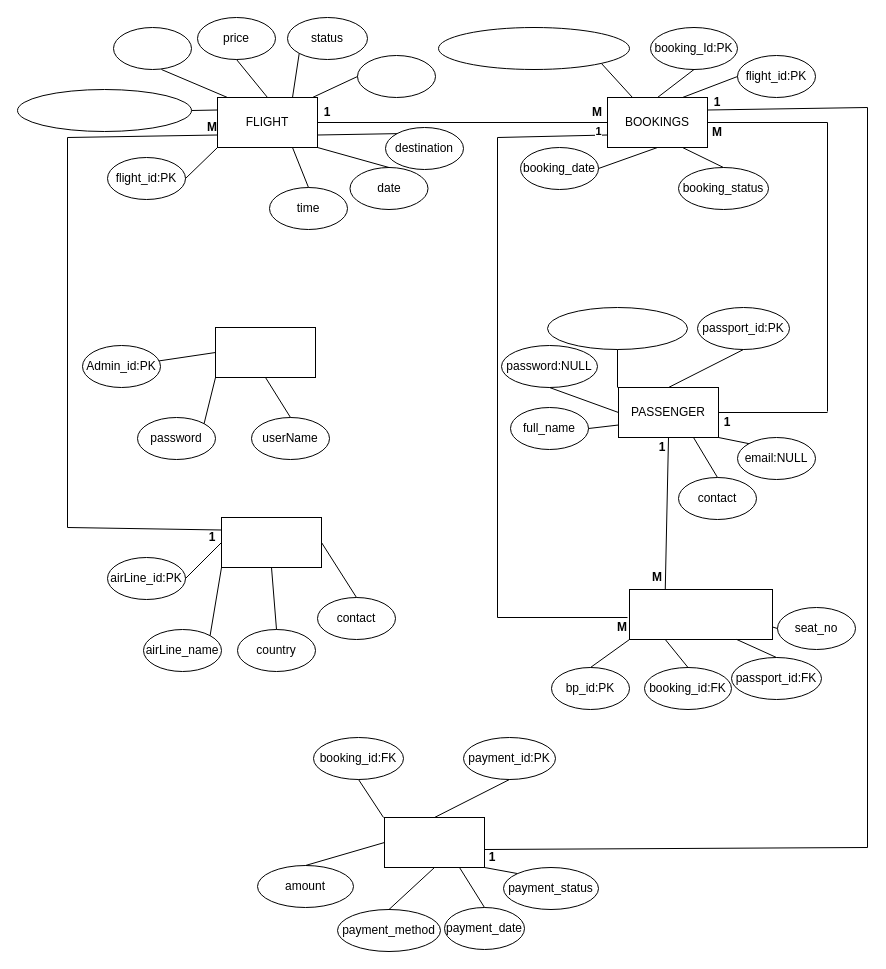
This 886x969 diagram has some shape labels left out. Each missing label, with the centre of its shape:
ADMIN: [265,352]
AIRLINE: [271,542]
airline_id:FK(Airline.airline_id): [104,110]
booking_owner_id:FK(Passenger): [534,48]
BOOKING_PASSENGER: [700,614]
capacity: [152,48]
is_registered:BOOLEAN: [617,328]
PAYMENT: [434,842]
source: [396,76]
